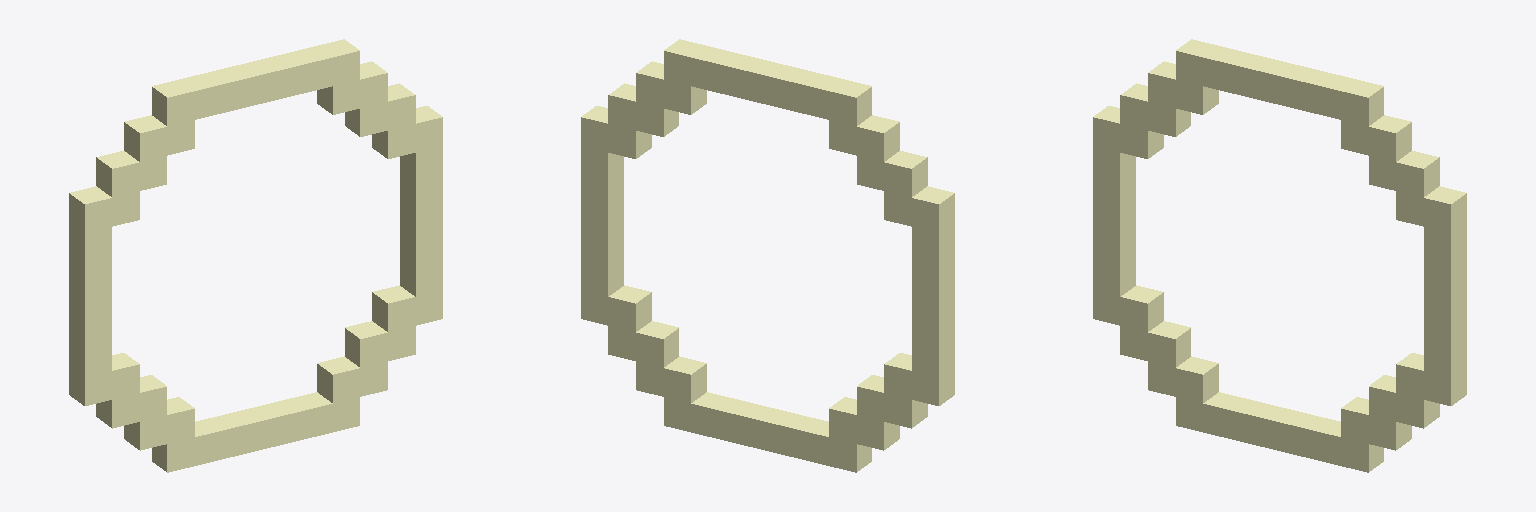
3 renders of one model, left to right at view 1: azimuth 30°, elevation 25°; view 2: azimuth 150°, elevation 25°; view 3: azimuth 330°, elevation 25°, orthographic.
Visible parts, largest first — view 1: Ring; view 2: Ring; view 3: Ring.
Boxes of the visible parts, <box> form: Ring: <box>69,39,442,472</box>; Ring: <box>581,39,954,472</box>; Ring: <box>1093,39,1466,472</box>.
Bounding box in the file's own units: 13 × 13 × 1.
Materials: 1 (1 with a texture image).